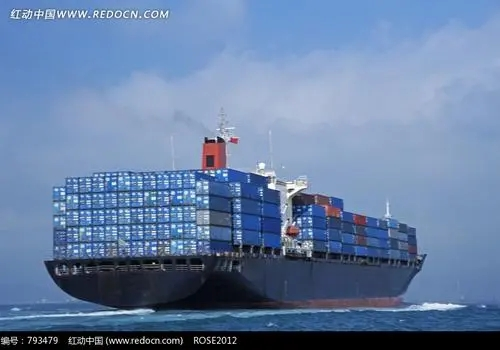Cargoship: (43, 117, 426, 311)
